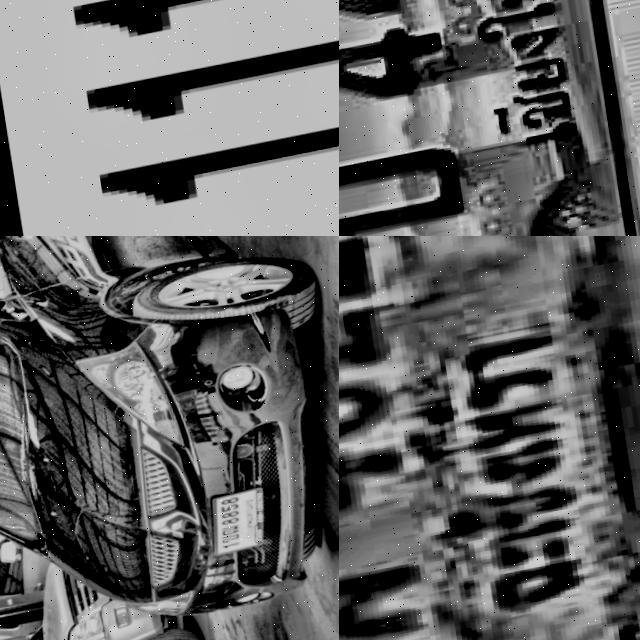license-plate: (339, 236, 640, 640), (0, 0, 339, 236), (339, 0, 640, 236), (199, 488, 274, 565)
